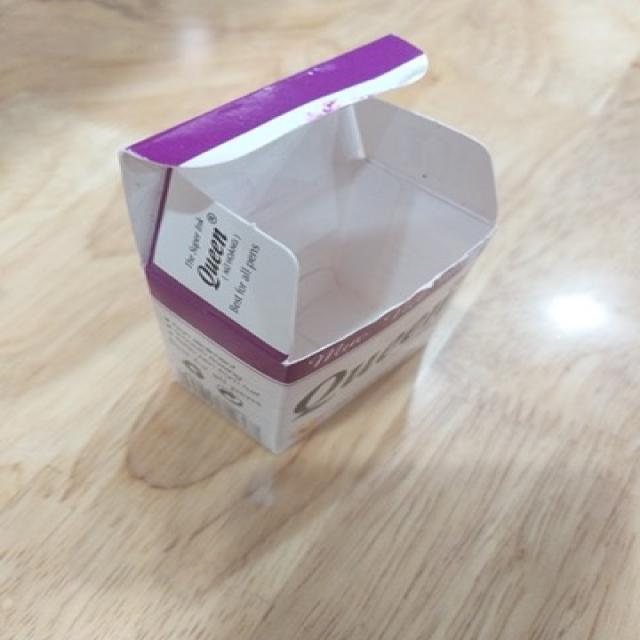PaperCardboard: (116, 37, 507, 443)
